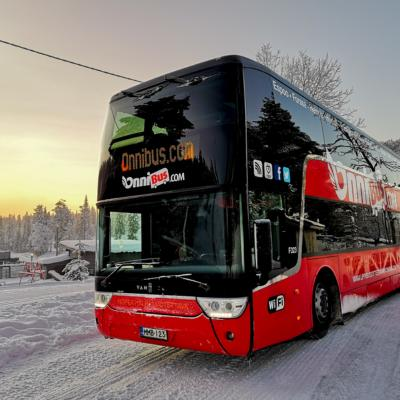bus: (93, 52, 400, 359)
